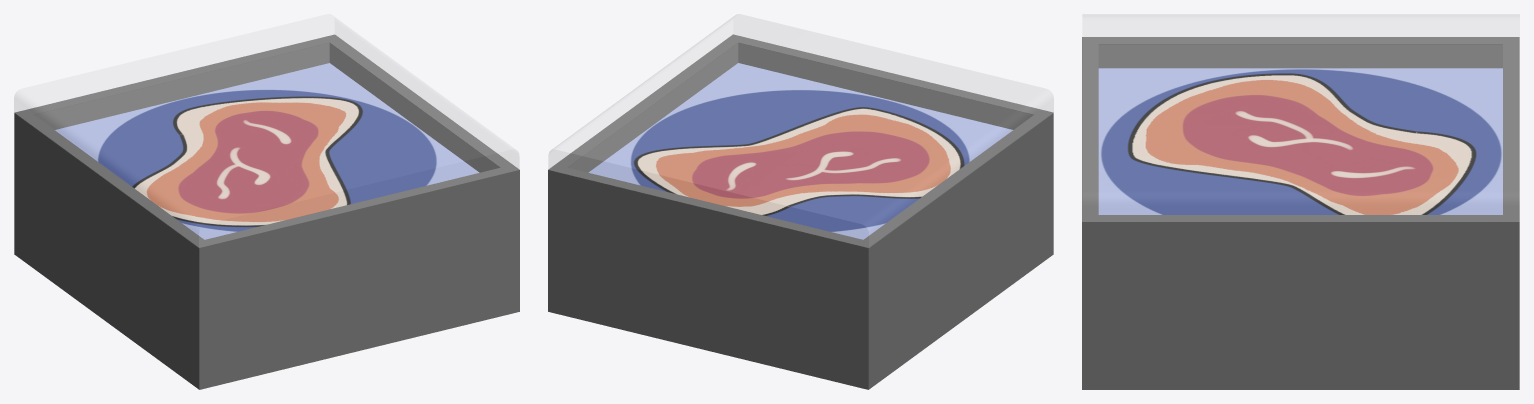
File: disk_biff.FBX
3 renders of one model, left to right at view 1: azimuth 30°, elevation 25°; view 2: azimuth 150°, elevation 25°; view 3: azimuth 270°, elevation 25°, orthographic. The views are drawn at different scales.
Parts seen in each view (by area): view 1: Biff_disk; view 2: Biff_disk; view 3: Biff_disk.
Part boxes in pixels (x1,y1,x2,y2): Biff_disk: (14, 14, 519, 389); Biff_disk: (548, 14, 1053, 389); Biff_disk: (1082, 14, 1519, 389).
Size of the model in its own units: 118 by 57.8 by 118.
